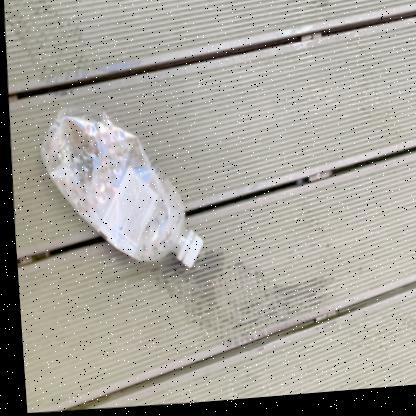Plastic: (38, 107, 198, 268)
